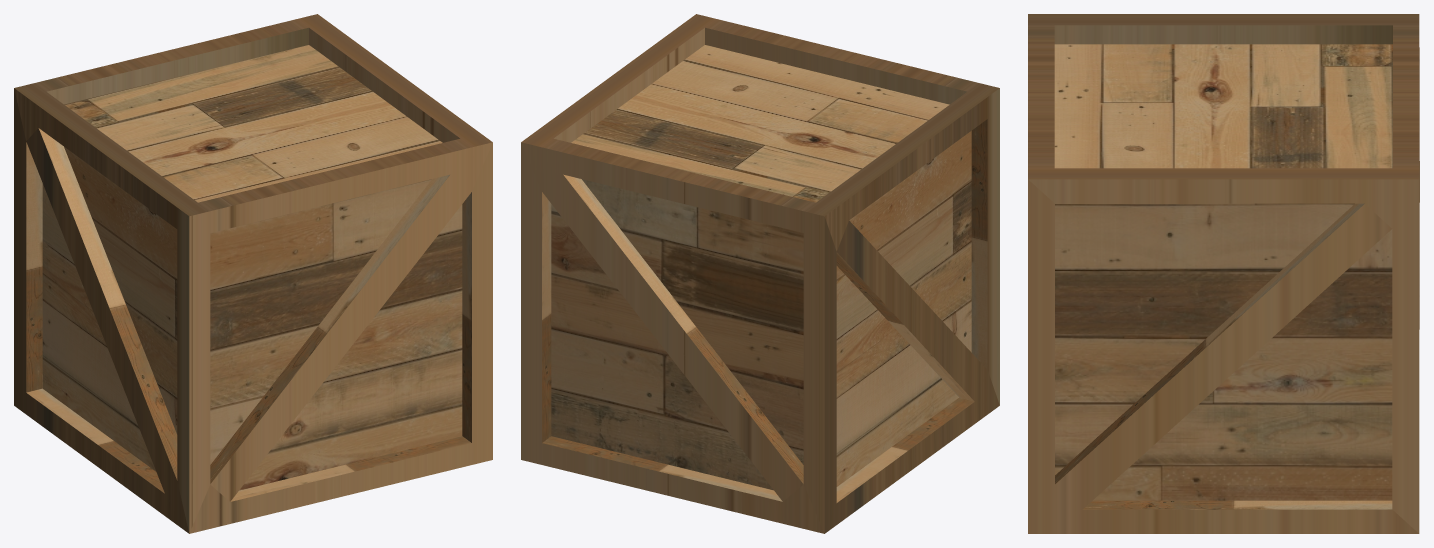
The model's file is Crates.fbx.
3 views of the same model, side by side, from view 1: azimuth 30°, elevation 25°; view 2: azimuth 150°, elevation 25°; view 3: azimuth 270°, elevation 25° (orthographic). The views are drawn at different scales.
Visible parts, largest first — view 1: pCube27, polySurface22; view 2: pCube27, polySurface22; view 3: pCube27, polySurface22.
Part boxes in pixels (x1=…): pCube27: x1=42, y1=45, x2=462, y2=490; polySurface22: x1=14, y1=14, x2=492, y2=533; pCube27: x1=551, y1=45, x2=971, y2=490; polySurface22: x1=521, y1=14, x2=999, y2=533; pCube27: x1=1054, y1=44, x2=1392, y2=500; polySurface22: x1=1028, y1=14, x2=1419, y2=533.
Size of the model in its own units: 1 by 1 by 1.
